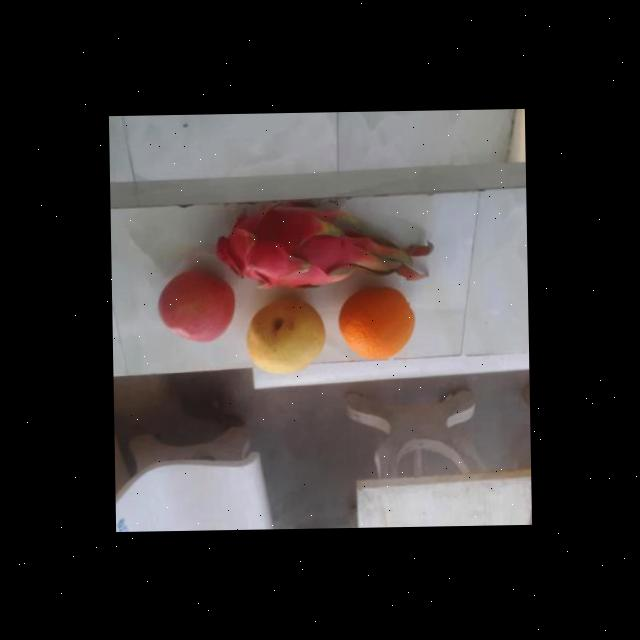apple: (154, 269, 235, 343)
orange: (334, 286, 416, 360)
pear: (242, 296, 329, 374)
pitaya: (205, 198, 353, 290)
